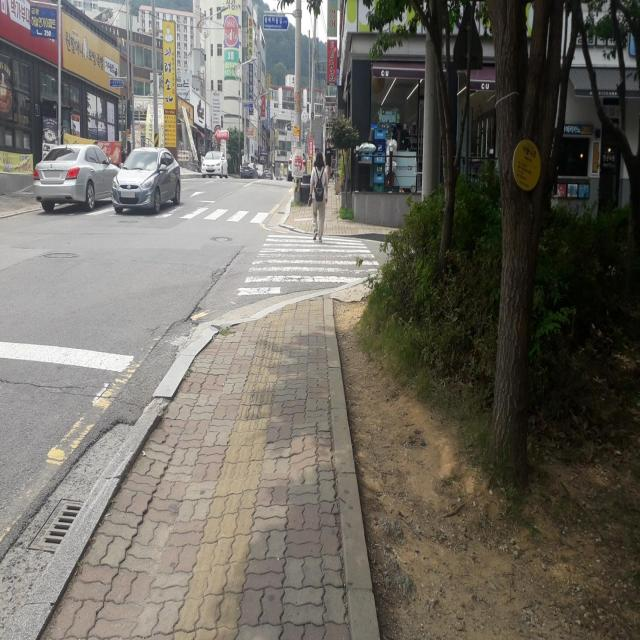횡단보도: (236, 234, 383, 296), (159, 201, 284, 227)
